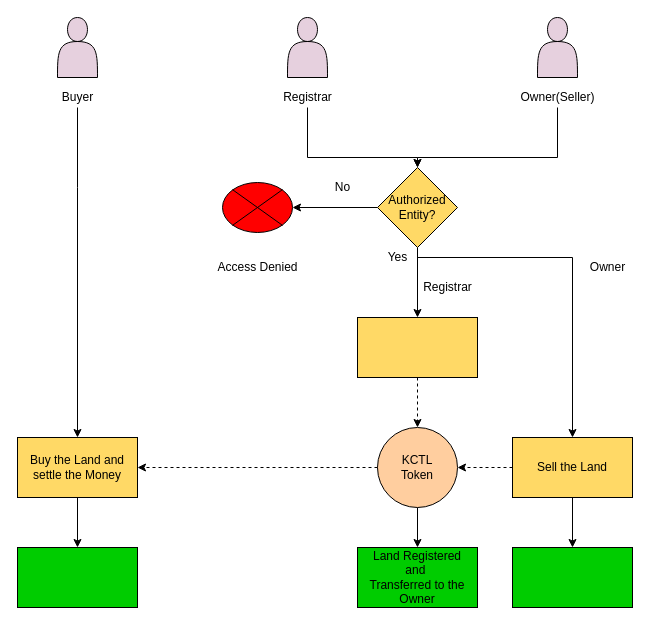
Some shapes in this 650 by 625 pixel diagram are drawn without their labels. Each missing label, with the centre of its shape:
"Details updated in Blockchain" belongs at pixel 572 577.
"Token Created and Stored in Blockchain" belongs at pixel 417 347.
"Token transferred to the Buyer" belongs at pixel 77 577.
